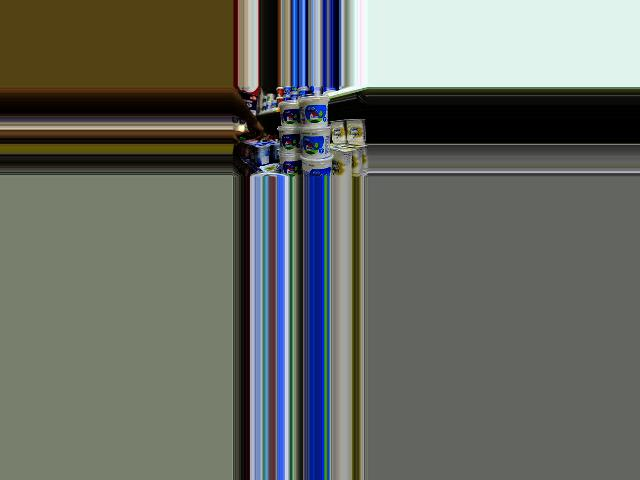cotage: (279, 126, 303, 155)
